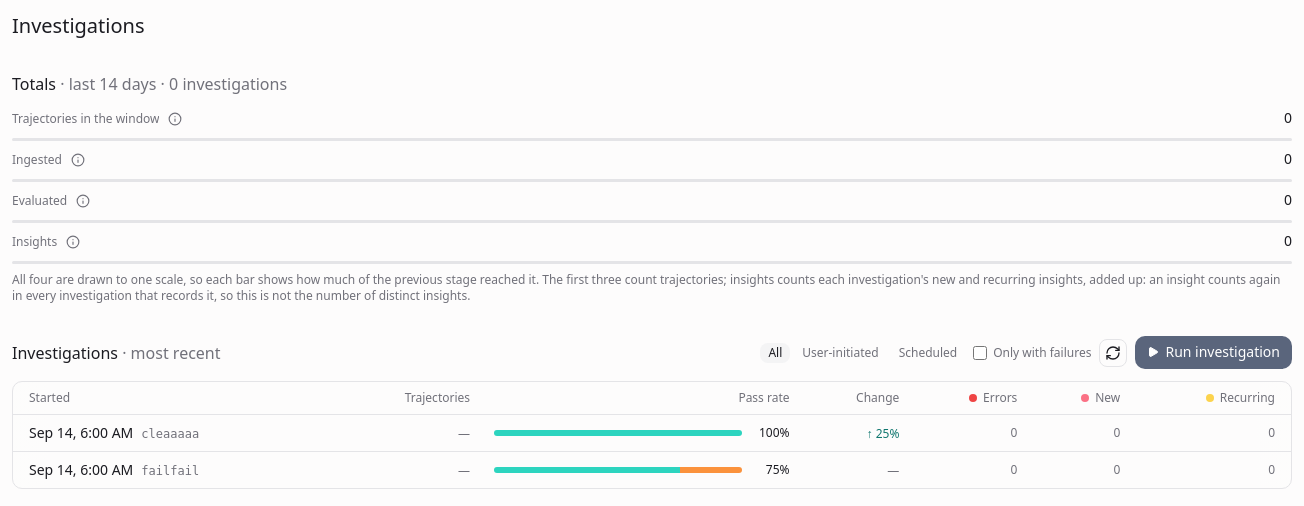
it: the /investigations page › writes the checkbox into the URL, and unchecked as no param
Expected: the link "cleaaaaa" is shown, [141,426,199,442]
Click the checkbox labelled "Only with failures" at (980,352), box [973,346,987,360]
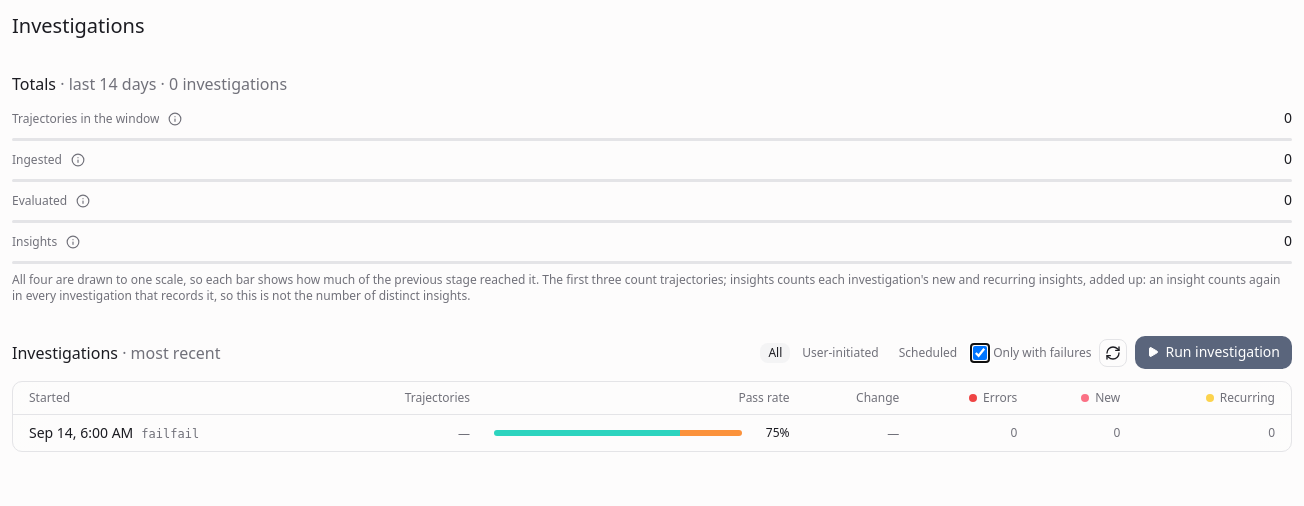
Now the link "cleaaaaa" is gone
Click the checkbox labelled "Only with failures" at (980,352), box [973,346,987,360]
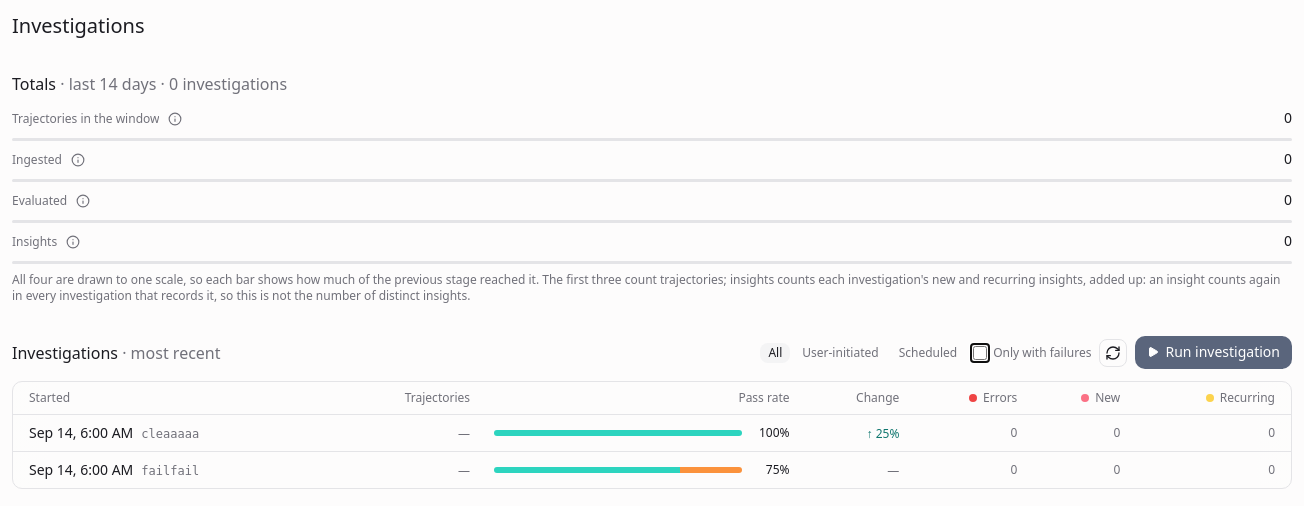
Now the link "cleaaaaa" is shown, box [141,426,199,442]
